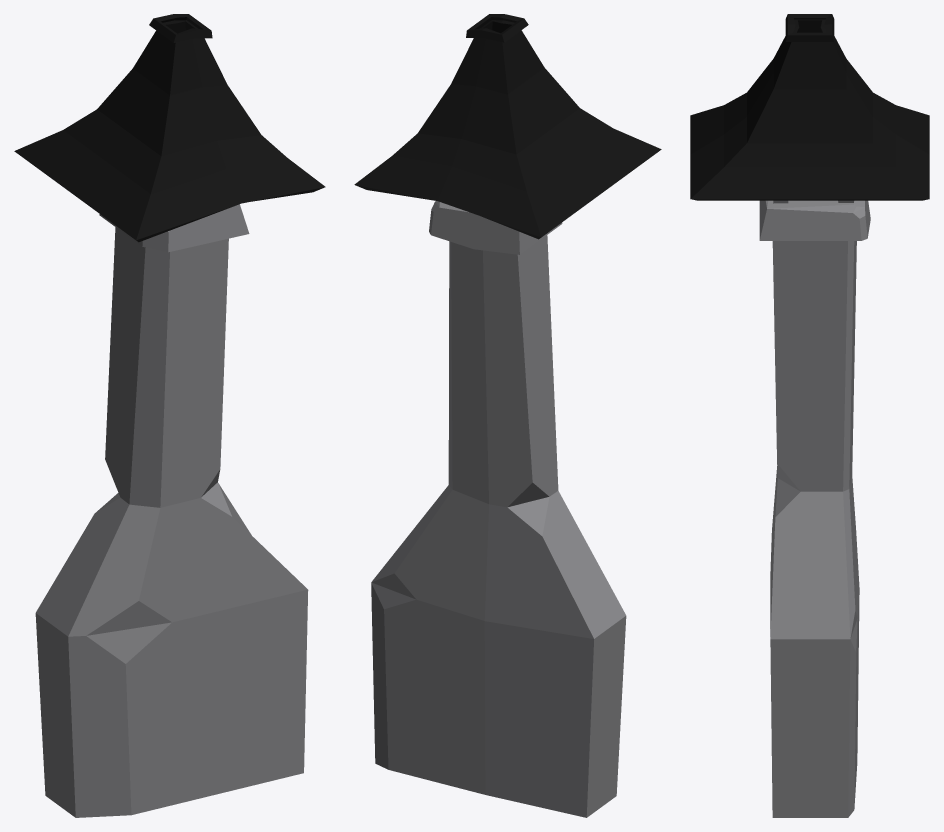
Rendered from WF_LP_HT_Build_Chimney.002.fbx.
3 views of the same model, side by side, from view 1: azimuth 30°, elevation 25°; view 2: azimuth 150°, elevation 25°; view 3: azimuth 270°, elevation 25° (orthographic). The views are drawn at different scales.
Visible parts, largest first — view 1: WF_LP_HT_Build_Chimney.002; view 2: WF_LP_HT_Build_Chimney.002; view 3: WF_LP_HT_Build_Chimney.002.
Part boxes in pixels (x1,y1,x2,y2): WF_LP_HT_Build_Chimney.002: [14, 14, 325, 817]; WF_LP_HT_Build_Chimney.002: [354, 14, 661, 817]; WF_LP_HT_Build_Chimney.002: [690, 14, 929, 817].
Size of the model in its own units: 1.81 by 5.76 by 1.67.
